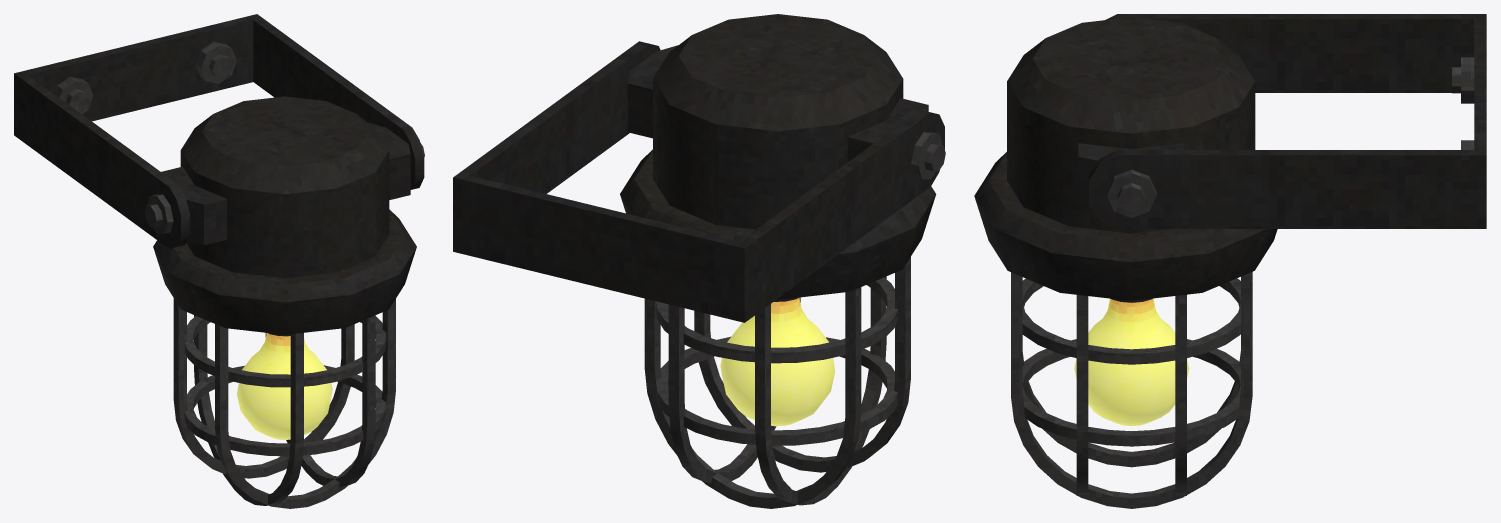
Rendered from lamp_mx_1_1_on.glb.
3 views of the same model, side by side, from view 1: azimuth 30°, elevation 25°; view 2: azimuth 150°, elevation 25°; view 3: azimuth 270°, elevation 25° (orthographic). The views are drawn at different scales.
Parts seen in each view (by area): view 1: lamp_mx_1_1_on; view 2: lamp_mx_1_1_on; view 3: lamp_mx_1_1_on.
Part boxes in pixels (<box>): lamp_mx_1_1_on: <box>14,14,424,508</box>; lamp_mx_1_1_on: <box>453,14,945,508</box>; lamp_mx_1_1_on: <box>974,14,1486,508</box>.
Bounding box in the file's own units: 0.2245 × 0.2865 × 0.3118.
3 materials, 3 textured.
